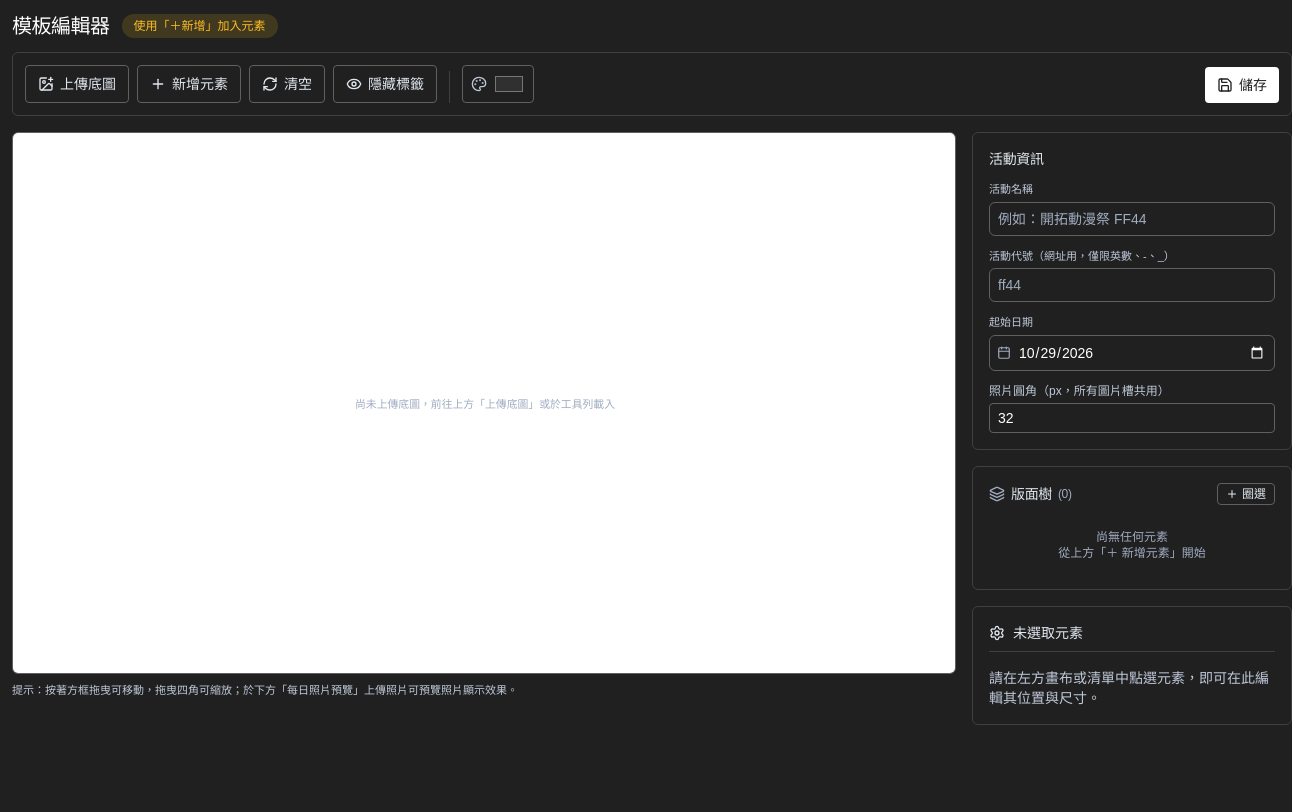
components/templateEditor/TemplateEditor › 應可新增圖片槽（天數連動更新）
Expected: the text "尚無任何元素" is shown, x1=1096 y1=530 x2=1168 y2=544
// 點選「＋新增元素」開啟選單
Click the button "新增元素": (189, 84) x1=137 y1=65 x2=241 y2=103
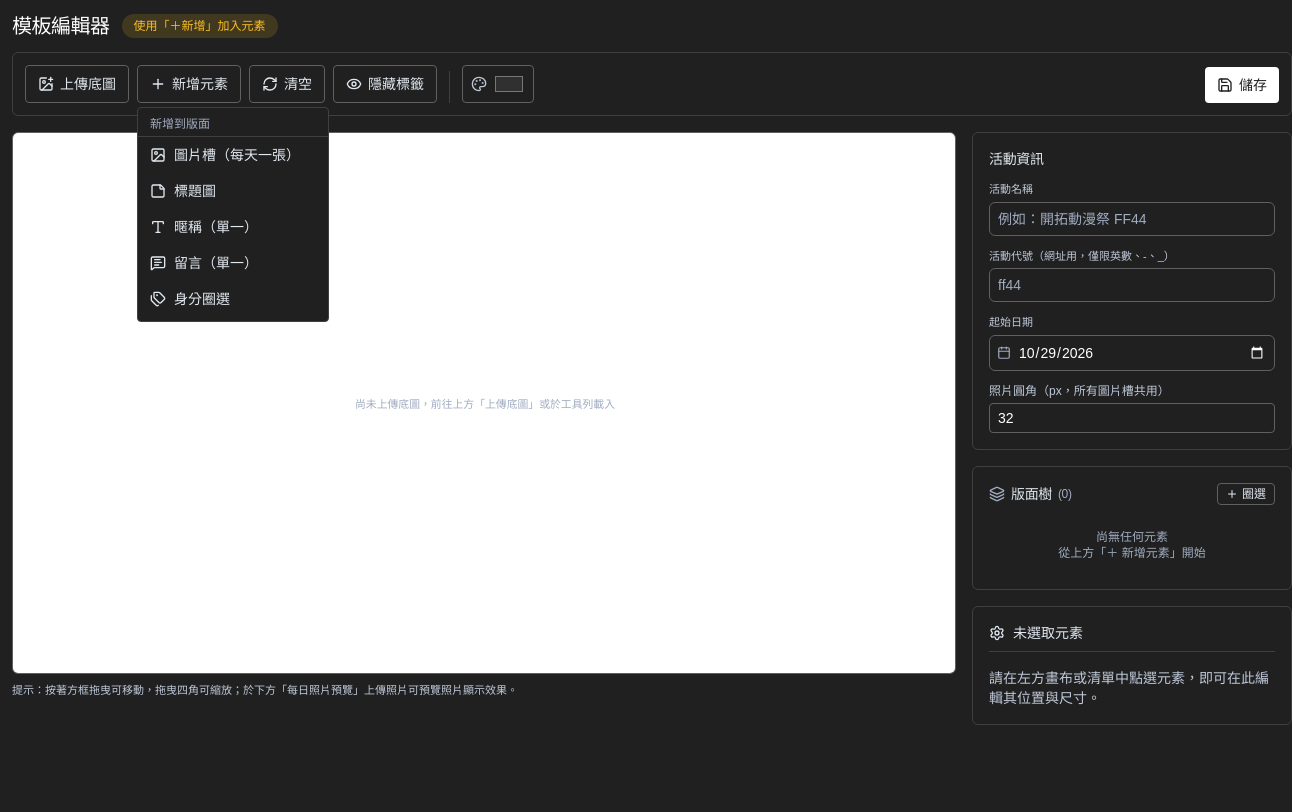
// 點「圖片槽（每天一張）」
Click the button with test id "add-menu-image-slot": (233, 155) x1=138 y1=137 x2=328 y2=173
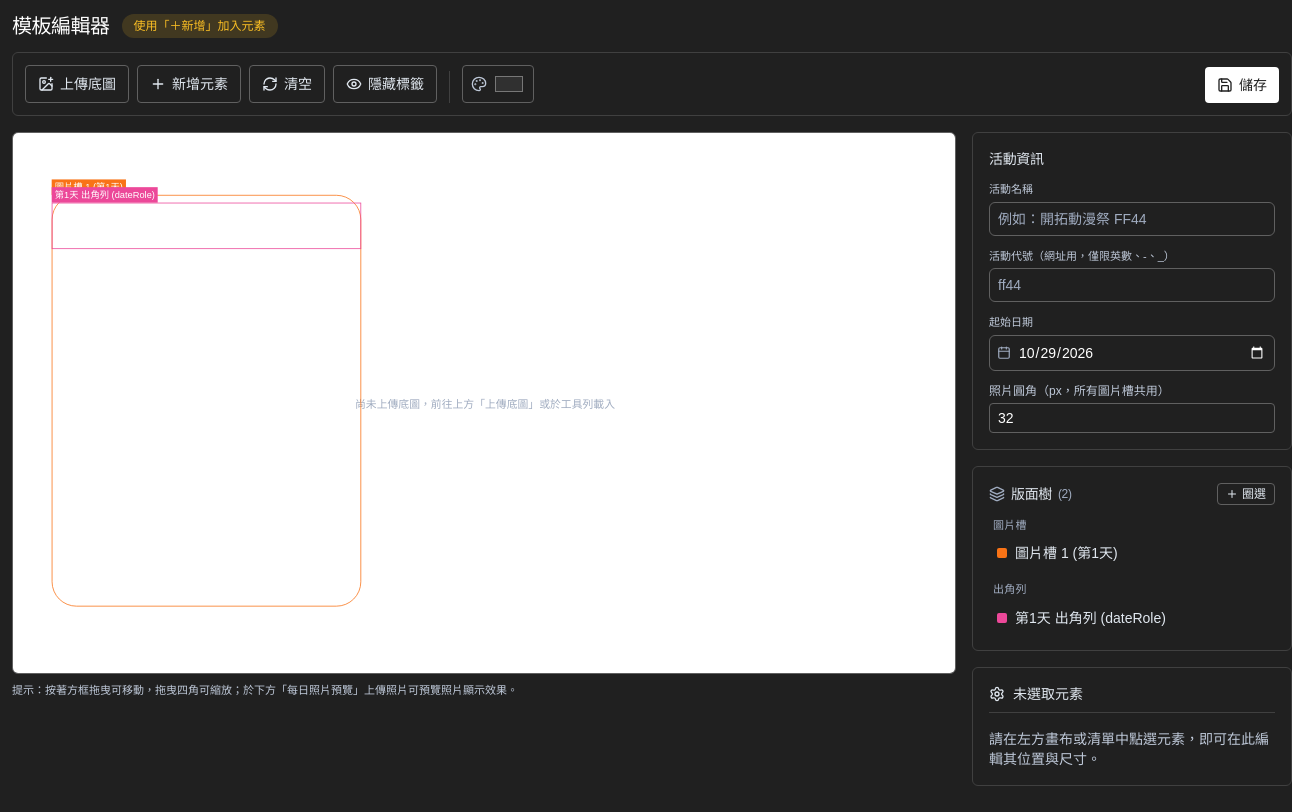
Expected: the text "圖片槽" is shown, x1=993 y1=518 x2=1027 y2=530
Expected: the 1st text "圖片槽 1 (第1天)" is shown, x1=52 y1=179 x2=126 y2=195
